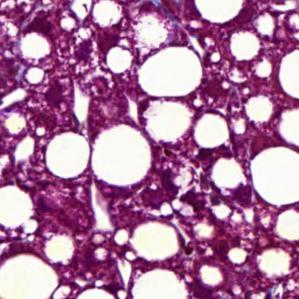steatosis: (89, 124, 155, 188), (136, 44, 206, 98), (43, 129, 88, 180)
